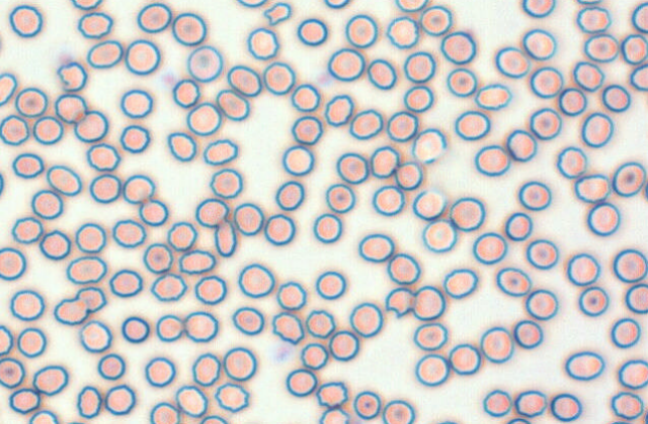PLT: (57, 51, 73, 65)
RBC: (186, 45, 223, 82), (124, 38, 160, 75), (411, 127, 446, 164), (237, 263, 274, 298), (327, 47, 365, 81), (449, 196, 485, 231), (480, 326, 514, 363), (564, 350, 604, 381), (612, 248, 647, 283), (349, 301, 383, 337), (612, 161, 646, 197), (440, 30, 476, 64), (222, 346, 256, 381), (186, 101, 221, 135), (586, 201, 620, 236), (171, 12, 206, 46), (344, 13, 378, 48), (66, 255, 107, 284), (414, 353, 450, 386), (581, 111, 614, 147), (78, 319, 112, 353), (566, 252, 600, 286), (422, 219, 457, 252), (412, 285, 445, 320), (8, 4, 43, 37), (73, 109, 108, 142), (472, 231, 507, 264), (226, 64, 261, 97), (32, 364, 68, 396), (46, 164, 82, 196), (474, 144, 510, 176), (494, 46, 530, 78), (262, 61, 295, 95), (215, 88, 249, 121), (386, 15, 419, 49), (246, 26, 279, 60), (9, 289, 44, 321), (136, 2, 172, 33), (150, 272, 187, 302), (574, 173, 611, 203), (271, 311, 304, 344), (336, 151, 369, 184), (529, 107, 562, 140), (412, 188, 446, 220), (386, 252, 420, 284), (184, 310, 218, 342), (349, 108, 383, 140), (522, 28, 556, 60), (529, 66, 563, 98), (442, 268, 478, 298), (454, 110, 490, 140), (358, 232, 394, 262), (86, 39, 123, 68), (175, 384, 207, 417), (448, 343, 481, 375), (372, 184, 405, 216), (525, 288, 558, 320), (281, 144, 314, 176), (403, 50, 435, 83), (14, 86, 48, 117), (506, 128, 537, 162), (525, 238, 559, 269), (214, 382, 249, 412), (496, 266, 531, 296), (111, 218, 146, 248), (583, 33, 619, 62), (474, 82, 511, 110), (263, 213, 295, 245), (386, 110, 418, 142), (233, 202, 264, 235), (419, 5, 452, 36), (556, 145, 587, 178), (191, 352, 221, 386), (209, 168, 243, 198), (108, 268, 143, 297), (328, 329, 359, 361), (142, 242, 173, 274), (39, 229, 71, 260), (74, 222, 106, 253), (366, 58, 397, 90), (572, 60, 604, 91), (195, 197, 228, 227), (194, 275, 227, 305), (54, 93, 87, 123), (369, 145, 399, 178), (122, 174, 155, 204), (120, 88, 153, 118), (518, 180, 551, 210), (86, 142, 120, 171), (53, 297, 88, 325), (413, 322, 448, 350), (576, 5, 611, 33), (77, 11, 113, 38), (178, 248, 215, 274), (166, 220, 197, 251), (144, 356, 175, 387), (104, 384, 135, 415), (610, 317, 641, 348), (31, 189, 63, 219), (89, 173, 121, 203), (291, 115, 323, 145), (324, 93, 353, 126), (231, 306, 264, 335), (610, 391, 644, 419), (203, 138, 238, 165), (617, 358, 647, 389), (16, 327, 46, 358), (325, 182, 355, 213), (312, 212, 342, 243), (578, 286, 609, 316), (32, 115, 63, 145), (446, 67, 477, 97), (285, 368, 317, 397), (550, 392, 582, 421), (514, 389, 547, 417), (305, 308, 335, 338), (276, 280, 306, 310), (513, 319, 543, 349), (0, 114, 29, 145), (119, 124, 150, 153), (315, 270, 346, 299), (296, 17, 327, 46), (11, 216, 43, 244), (315, 380, 348, 407), (213, 220, 237, 257), (0, 246, 26, 280), (394, 160, 423, 190), (290, 83, 320, 112), (167, 131, 196, 161), (275, 180, 304, 210), (601, 83, 631, 112), (8, 387, 40, 414), (76, 385, 102, 418), (11, 152, 44, 178), (352, 390, 381, 419), (558, 87, 587, 116), (482, 389, 512, 417), (138, 198, 168, 226), (172, 78, 200, 108), (504, 211, 532, 241), (75, 286, 106, 313), (620, 33, 647, 64), (155, 314, 184, 342), (120, 315, 149, 343), (403, 85, 433, 112), (382, 399, 415, 423), (300, 342, 328, 370), (0, 357, 25, 388), (97, 353, 125, 380), (624, 282, 647, 314), (149, 401, 180, 423), (521, 0, 555, 18), (0, 72, 17, 106), (318, 406, 350, 423), (631, 1, 647, 33), (629, 63, 647, 91), (28, 409, 58, 423), (0, 324, 13, 356), (394, 0, 428, 12), (70, 0, 102, 10), (199, 414, 228, 423), (323, 0, 350, 9), (236, 0, 267, 7), (506, 417, 531, 423), (605, 419, 633, 424), (575, 0, 602, 5), (642, 180, 648, 202), (0, 171, 4, 196), (435, 420, 458, 424), (65, 420, 86, 424), (643, 409, 648, 423)
Schistocyte: (58, 62, 87, 92), (386, 287, 413, 317), (265, 2, 291, 25)
